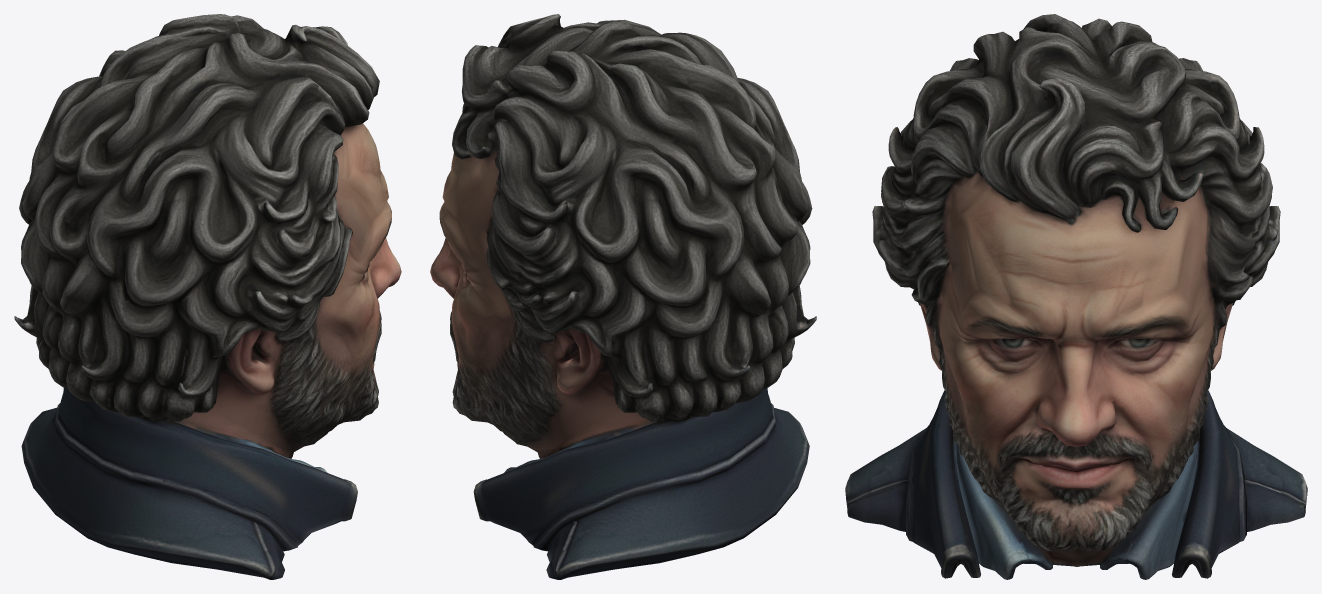
File: Captura_de_tela_2026_06_19_171_Detailed_portrait_of_a_middle_aged_man_Prism_31_05fe9c7c.glb
The picture shows the model from 3 angles, left to right: view 1: azimuth 30°, elevation 25°; view 2: azimuth 150°, elevation 25°; view 3: azimuth 270°, elevation 25°; orthographic projection. The views are drawn at different scales.
Visible parts, largest first — view 1: tripo_node_c81e7861-e38d-44fa-af6b-c39682a4771b; view 2: tripo_node_c81e7861-e38d-44fa-af6b-c39682a4771b; view 3: tripo_node_c81e7861-e38d-44fa-af6b-c39682a4771b.
Boxes of the visible parts, box(x1,y1,x2,y2) form: tripo_node_c81e7861-e38d-44fa-af6b-c39682a4771b: box(14, 14, 401, 579); tripo_node_c81e7861-e38d-44fa-af6b-c39682a4771b: box(430, 14, 816, 579); tripo_node_c81e7861-e38d-44fa-af6b-c39682a4771b: box(845, 14, 1307, 579).
Bounding box in the file's own units: 0.8102 × 1 × 0.8317.
Materials: 1 (1 with a texture image).
